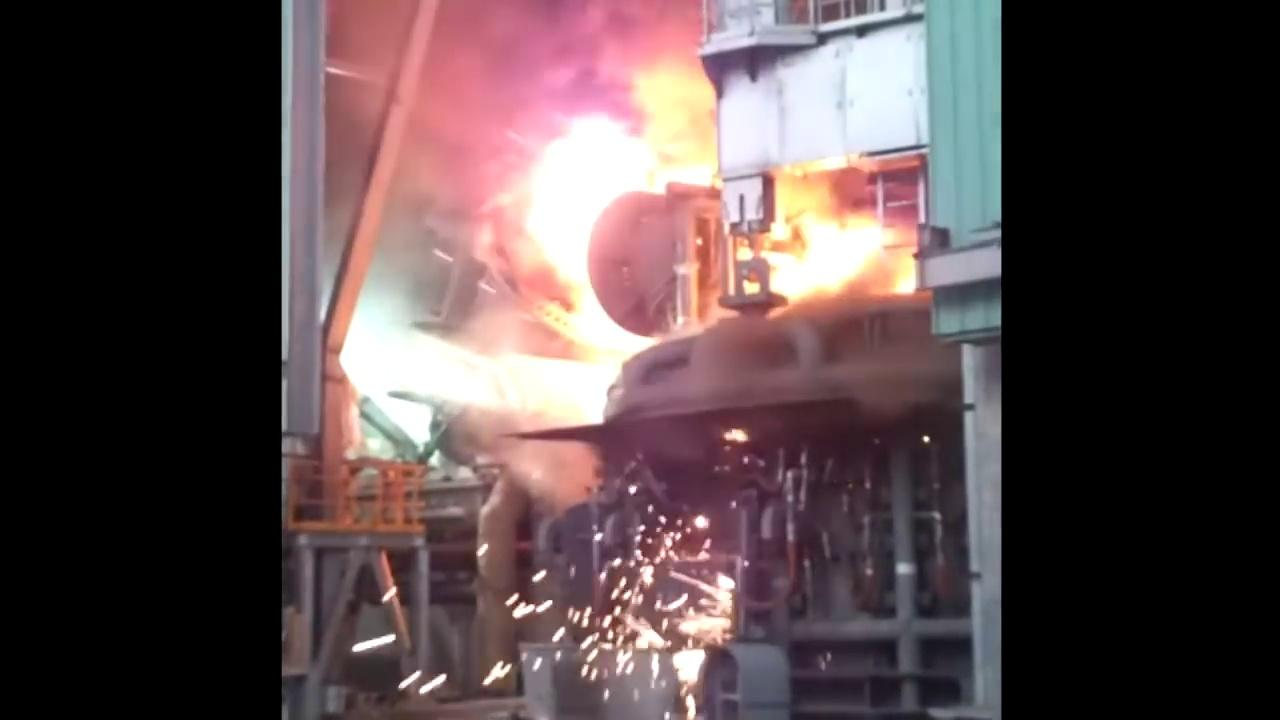fire: (306, 110, 967, 628), (338, 1, 928, 482)
